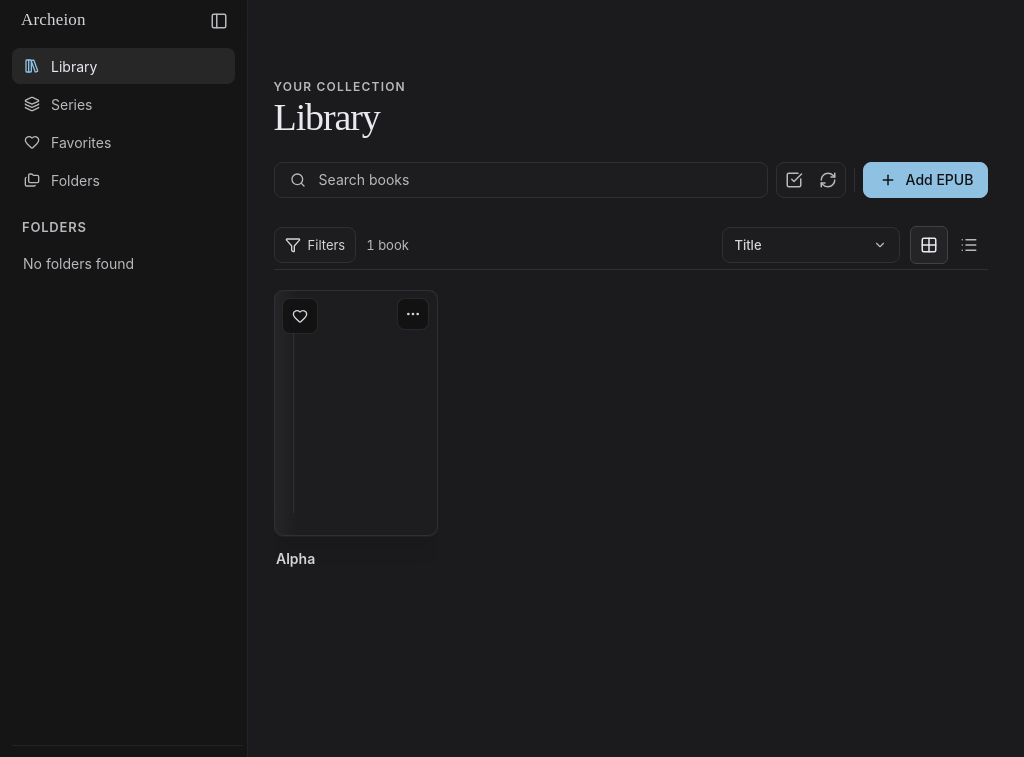
Test case: LibraryPage dialogs and book actions › opens metadata editing from the card menu while card activation keeps details ownership
Click the button named "Actions for Alpha" at (413, 314), box top-left (397, 298), bottom-right (429, 330)
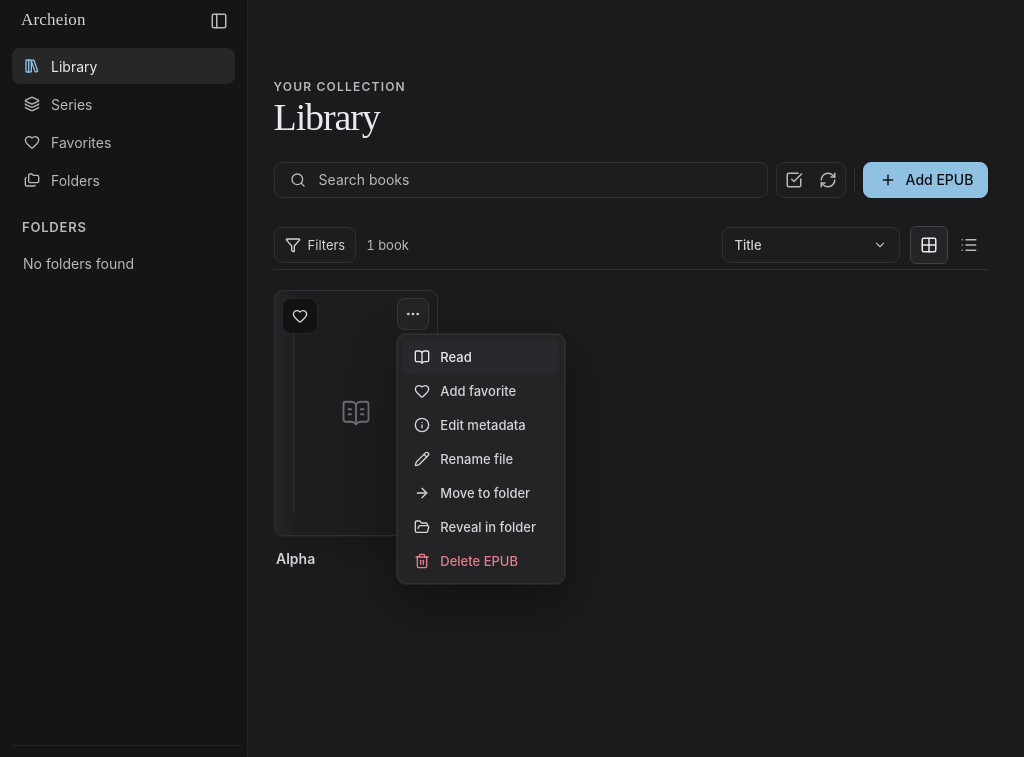
Click the menu item "Edit metadata" at (481, 425), box top-left (403, 408), bottom-right (559, 442)
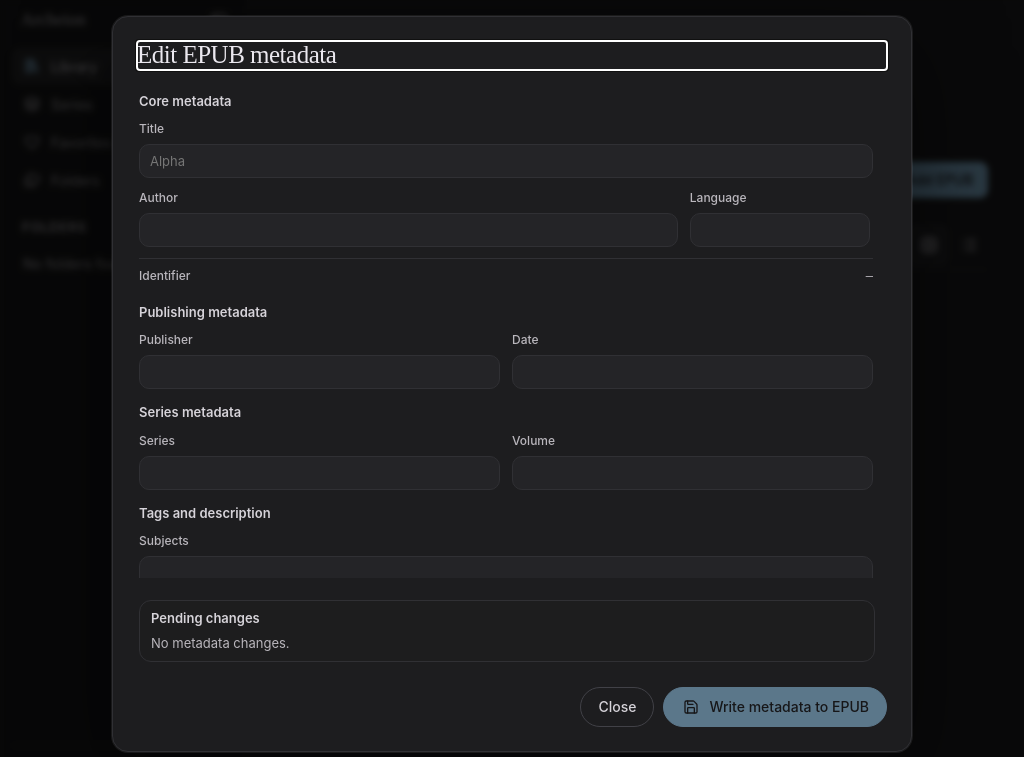
expect the dialog with class "dialog--metadata-writeback" is shown: met
